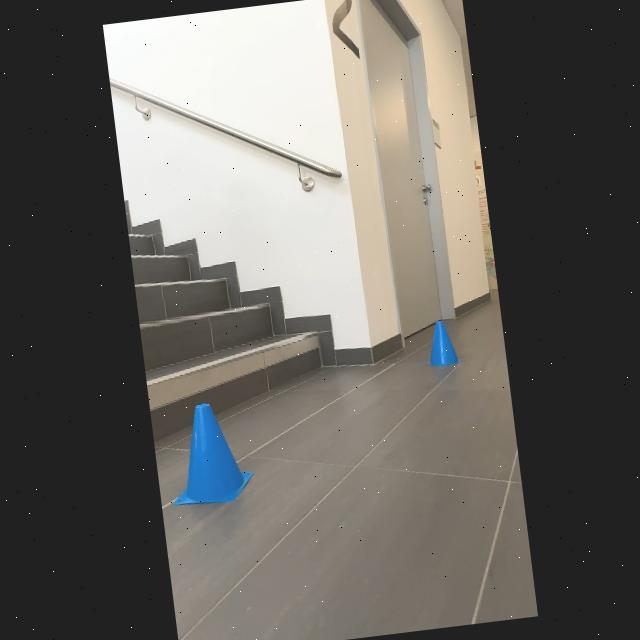blue_cone: (156, 392, 262, 514), (422, 312, 465, 370)
